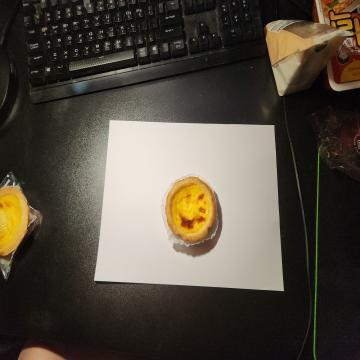EggTart: (166, 176, 215, 242)
